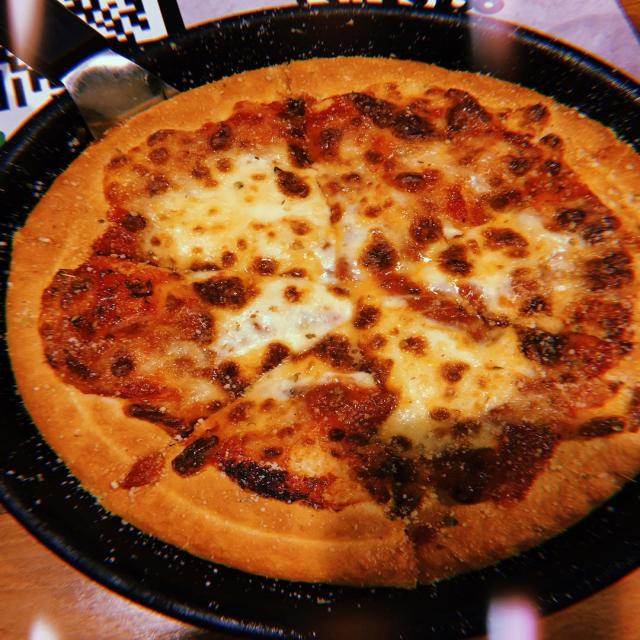pizza: (6, 57, 640, 592)
